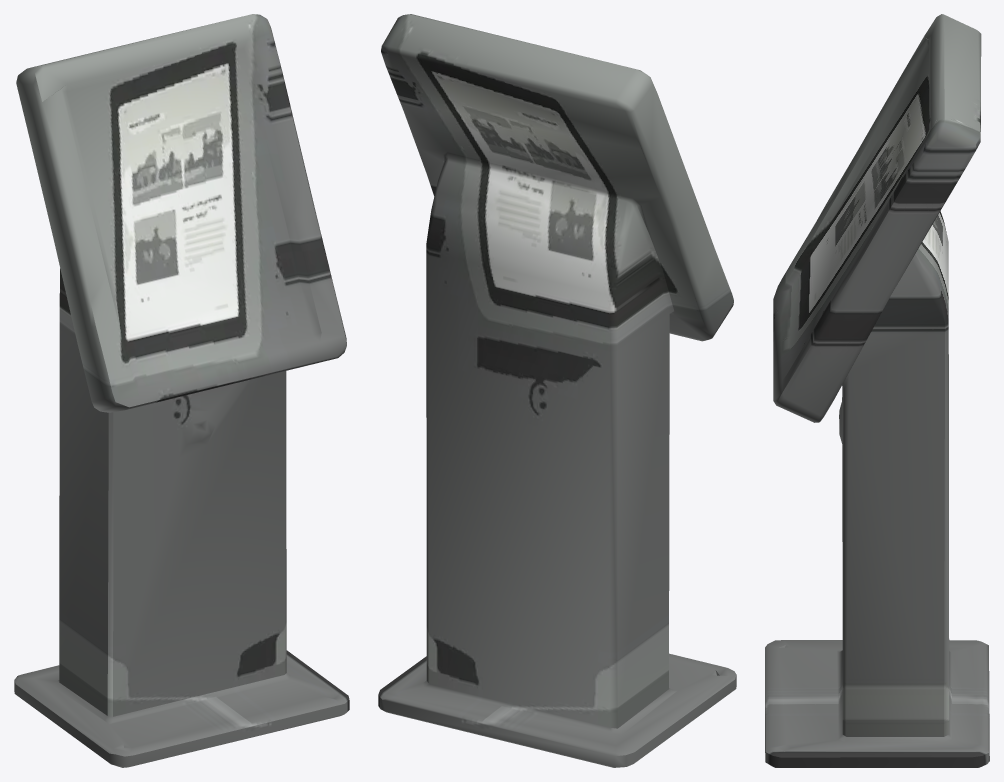
3 renders of one model, left to right at view 1: azimuth 30°, elevation 25°; view 2: azimuth 150°, elevation 25°; view 3: azimuth 270°, elevation 25°, orthographic. The views are drawn at different scales.
Visible parts, largest first — view 1: Decor_info_totem_c; view 2: Decor_info_totem_c; view 3: Decor_info_totem_c.
Part boxes in pixels (x1,y1,x2,y2): Decor_info_totem_c: (14,14,349,767); Decor_info_totem_c: (378,14,736,767); Decor_info_totem_c: (765,14,989,767).
Size of the model in its own units: 0.7805 by 2 by 0.631.
Materials: 1 (1 with a texture image).
